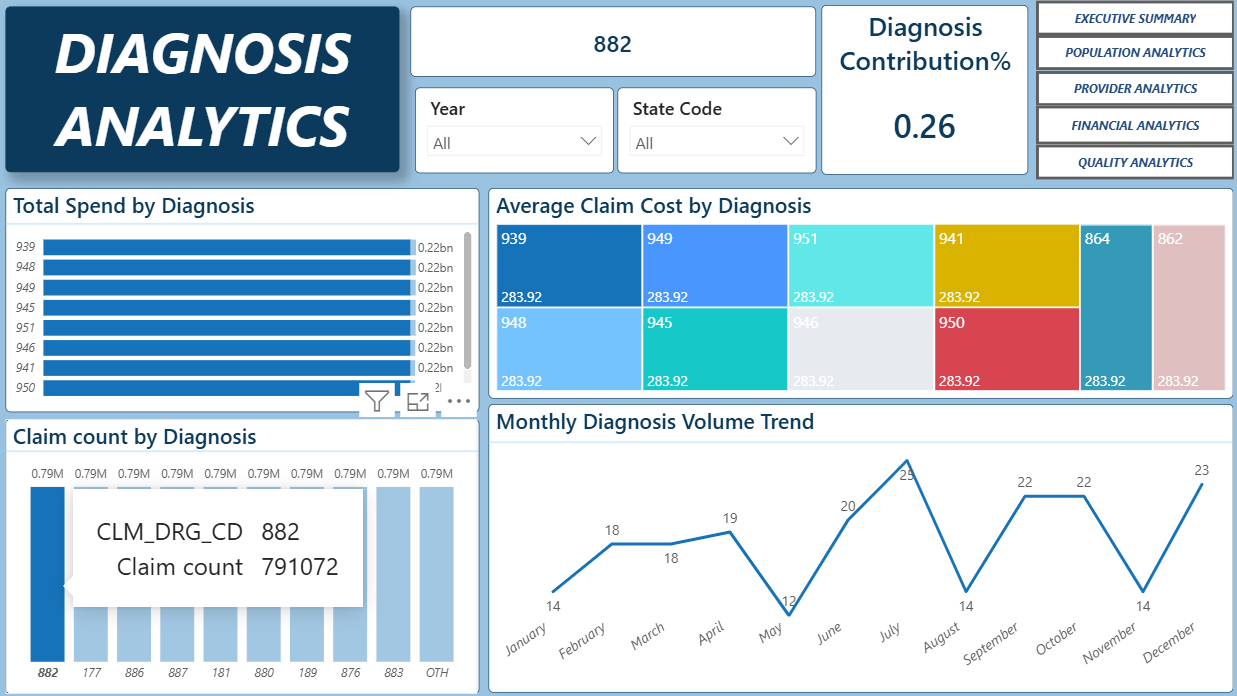

Layout of this report page (visuals, bound fields, positions):
{"tool":"powerbi","page":{"name":"Diagnosis Analytics","canvas":[1280,720],"ordinal":4},"visuals":[{"type":"clusteredBarChart","title":"Total Spend by Diagnosis","fields":{"Y":["Measures_Healthcare.Total Spend"],"Category":["Fact_Inpatient_Claims.CLM_DRG_CD"]},"box":[10,194,486,230],"z":0},{"type":"clusteredColumnChart","title":"Claim count by Diagnosis","fields":{"Y":["Measures_Healthcare.Claim count"],"Category":["Fact_Inpatient_Claims.CLM_DRG_CD"]},"box":[10,430,486,282],"z":1000},{"type":"slicer","fields":{"Values":["Dim_Beneficiary.SP_STATE_CODE"]},"box":[638,90,204,88],"z":2000},{"type":"slicer","fields":{"Values":["Dim_Date.YearNum"]},"box":[430,90,204,88],"z":3000},{"type":"treemap","title":"Average Claim Cost by Diagnosis","fields":{"Group":["Fact_Inpatient_Claims.CLM_DRG_CD"],"Values":["Measures_Healthcare.Average Claim Cost"]},"box":[506,194,764,216],"z":4000},{"type":"lineChart","title":"Monthly Diagnosis Volume Trend","fields":{"Y":["Measures_Healthcare.Diagnosis Volume"],"Category":["Dim_Date.FullDate.Variation.Date Hierarchy.Month"]},"box":[506,416,764,296],"z":5000},{"type":"textbox","box":[10,8,404,170],"z":6000},{"type":"cardVisual","fields":{"Data":["Measures_Healthcare.Selected Diagnosis"]},"box":[426,8,416,72],"z":7000},{"type":"cardVisual","title":"Diagnosis Contribution%","fields":{"Data":["Measures_Healthcare.Diagnosis Contribution%"]},"box":[848,6,212,174],"z":8000},{"type":"actionButton","box":[1067.3,1.3,204,36],"z":9000},{"type":"actionButton","box":[1067.3,37.3,204,36],"z":10000},{"type":"actionButton","box":[1067.3,73.3,204,36],"z":11000},{"type":"actionButton","box":[1067.3,109.3,204,40],"z":12000},{"type":"actionButton","box":[1067.3,149.3,204,36],"z":13000},{"type":"shape","box":[10,222,486,18],"z":14000},{"type":"shape","box":[6,454,490,20],"z":15000},{"type":"shape","box":[506,444,764,20],"z":16000}]}

Visuals, with their boxes in screenshot pixels (x1, y1, x2, y2), scaled from the page's 1280x720 canvas onto the 1237x696 screenshot:
"Total Spend by Diagnosis" clusteredBarChart: bbox=[10, 188, 479, 410]
"Claim count by Diagnosis" clusteredColumnChart: bbox=[10, 416, 479, 688]
slicer - Dim_Beneficiary.SP_STATE_CODE: bbox=[617, 87, 814, 172]
slicer - Dim_Date.YearNum: bbox=[416, 87, 613, 172]
"Average Claim Cost by Diagnosis" treemap: bbox=[489, 188, 1227, 396]
"Monthly Diagnosis Volume Trend" lineChart: bbox=[489, 402, 1227, 688]
textbox: bbox=[10, 8, 400, 172]
cardVisual - Measures_Healthcare.Selected Diagnosis: bbox=[412, 8, 814, 77]
"Diagnosis Contribution%" cardVisual: bbox=[820, 6, 1024, 174]
actionButton: bbox=[1031, 1, 1229, 36]
actionButton: bbox=[1031, 36, 1229, 71]
actionButton: bbox=[1031, 71, 1229, 106]
actionButton: bbox=[1031, 106, 1229, 144]
actionButton: bbox=[1031, 144, 1229, 179]
shape: bbox=[10, 215, 479, 232]
shape: bbox=[6, 439, 479, 458]
shape: bbox=[489, 429, 1227, 449]
